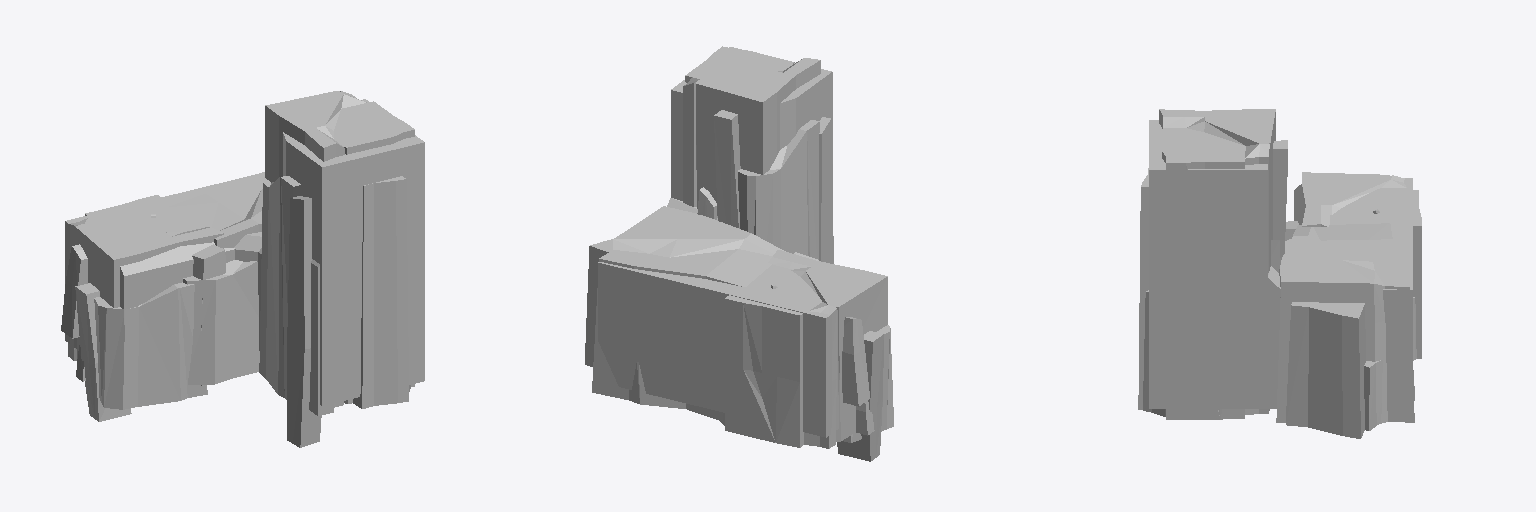
The model's file is cliff_1110_0010.obj.
The picture shows the model from 3 angles: view 1: azimuth 30°, elevation 25°; view 2: azimuth 150°, elevation 25°; view 3: azimuth 270°, elevation 25°; orthographic projection.
Visible parts, largest first — view 1: tile_1110_0010; view 2: tile_1110_0010; view 3: tile_1110_0010.
Boxes of the visible parts, <box> form: tile_1110_0010: <box>61,91,424,447</box>; tile_1110_0010: <box>585,46,893,461</box>; tile_1110_0010: <box>1138,109,1421,438</box>.
Size of the model in its own units: 2.5 by 2.51 by 2.15.